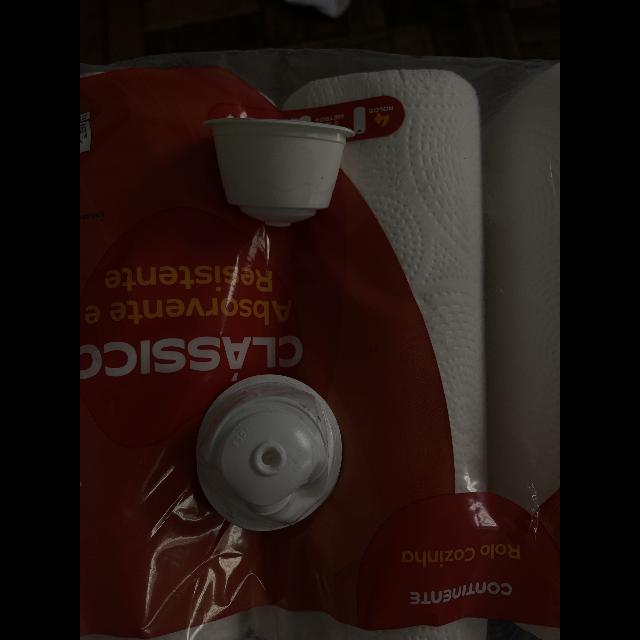damaged_capsule: (182, 367, 358, 543)
intact_capsule: (199, 100, 363, 242)
